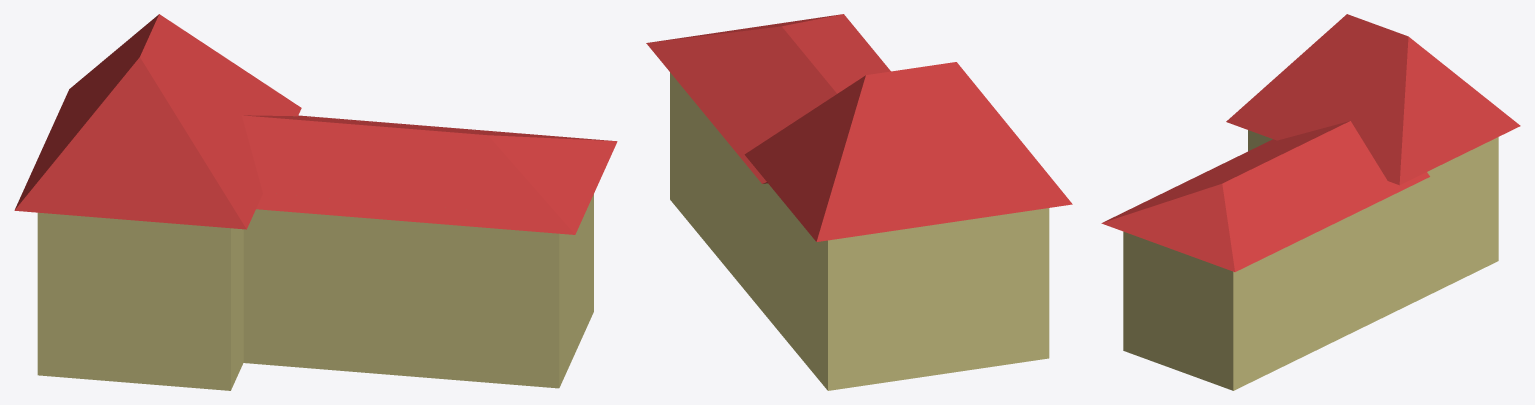
3 renders of one model, left to right at view 1: azimuth 30°, elevation 25°; view 2: azimuth 150°, elevation 25°; view 3: azimuth 270°, elevation 25°, orthographic. The views are drawn at different scales.
Parts seen in each view (by area): view 1: group_6, group_8, group_10, group_3, group_5, group_9; view 2: group_10, group_8, group_3, group_6, group_9, group_5; view 3: group_6, group_8, group_3, group_10, group_5, group_9.
Part boxes in pixels (x1,y1,x2,y2): group_6: [239, 116, 593, 388]; group_8: [14, 14, 301, 229]; group_10: [37, 212, 239, 390]; group_3: [242, 115, 617, 234]; group_5: [256, 115, 615, 234]; group_9: [16, 78, 300, 228]; group_10: [782, 200, 1049, 390]; group_8: [745, 62, 1072, 241]; group_3: [646, 14, 878, 181]; group_6: [670, 72, 781, 334]; group_9: [745, 139, 1070, 241]; group_5: [646, 14, 890, 183]; group_6: [1123, 181, 1421, 390]; group_8: [1226, 14, 1520, 185]; group_3: [1101, 121, 1428, 271]; group_10: [1248, 130, 1498, 298]; group_5: [1102, 139, 1429, 271]; group_9: [1230, 100, 1519, 183].
Size of the model in its own units: 22.91 by 19.97 by 12.12.
